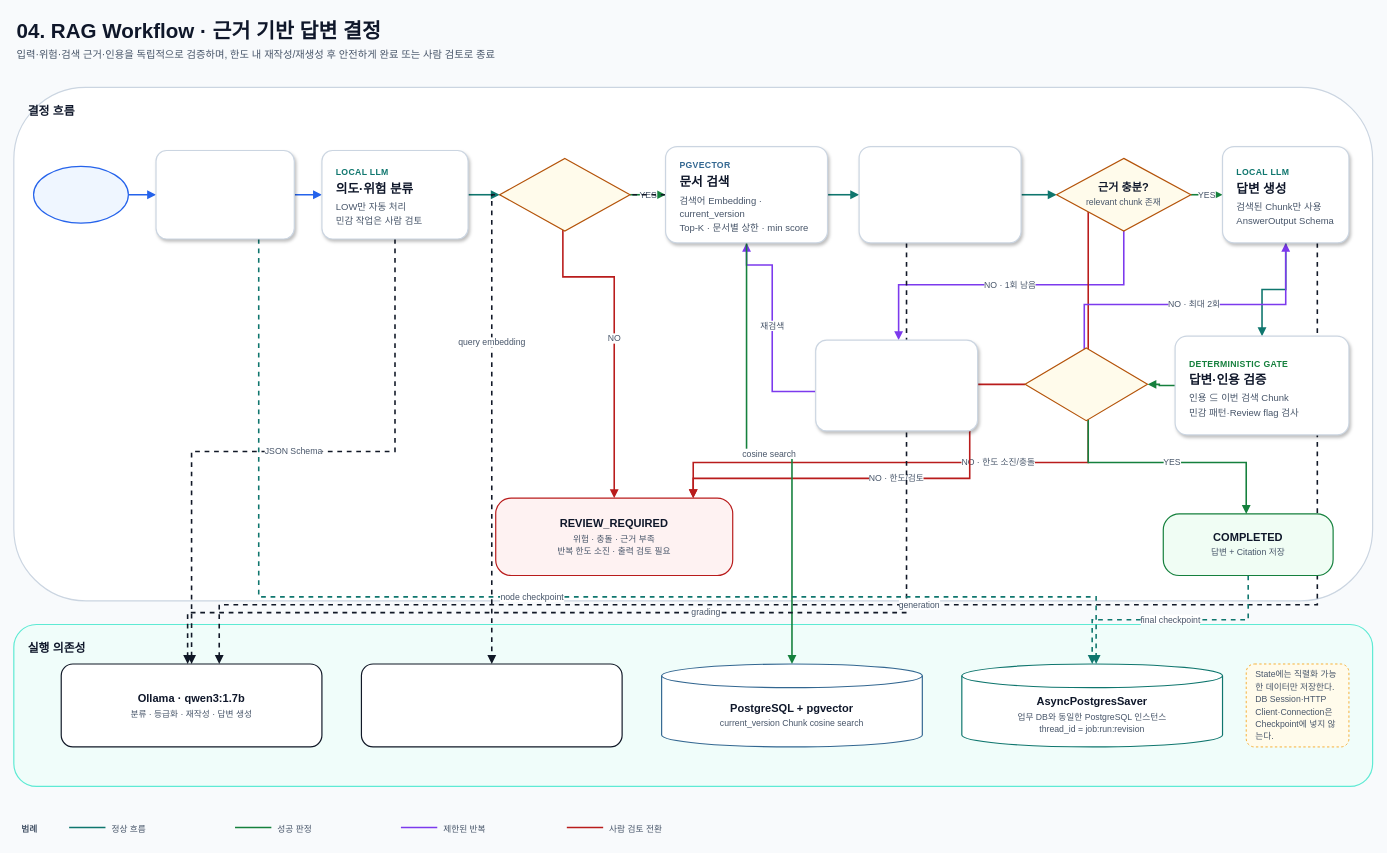
This 1387x853 diagram has some shape labels left out. The centre of each missing label's shape, as x and y in pixels:
"BOUNDED LOOP 검색어 재작성 최대 1회 의미 유지 Schema 검증" belongs at [897,386].
"INPUT GATE 입력 검증 질문·식별자·상태 계약" belongs at [225,195].
"LOCAL LLM + RULE 문서 관련성 판정 Schema 검증 + 키워드 겹침 충돌·근거 부족 탐지" belongs at [940,195].
"Ollama · nomic-embed-text search_query prefix · 768차원 검증" belongs at [491,705].
"Risk = LOW? 자동 처리 가능 여부" belongs at [564,194].
"START PROCESSING Job" belongs at [81,194].
"검증 통과? Schema + Citation + Safety" belongs at [1086,384].
